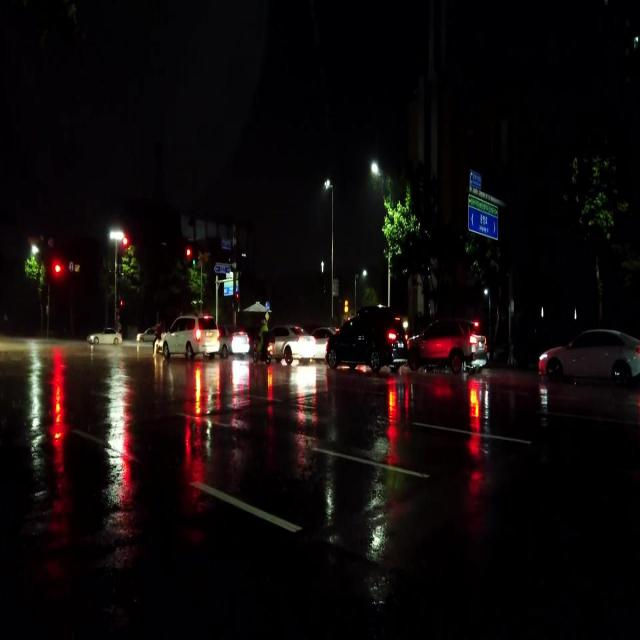Car: (537, 328, 638, 388), (325, 314, 404, 374), (408, 320, 485, 378), (160, 312, 219, 358), (269, 322, 316, 355)
